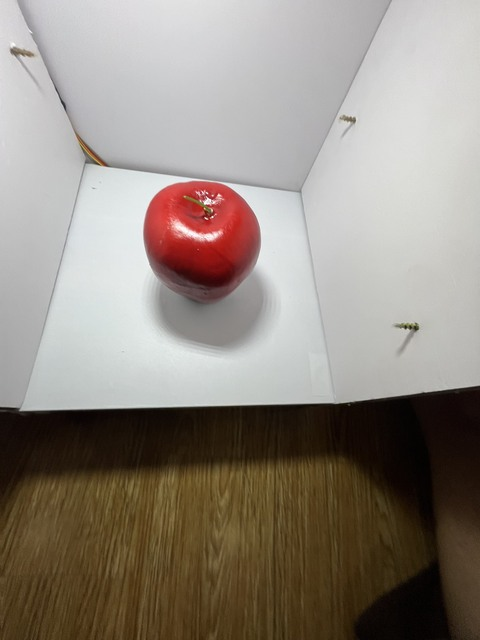Tao: (140, 174, 266, 307)
